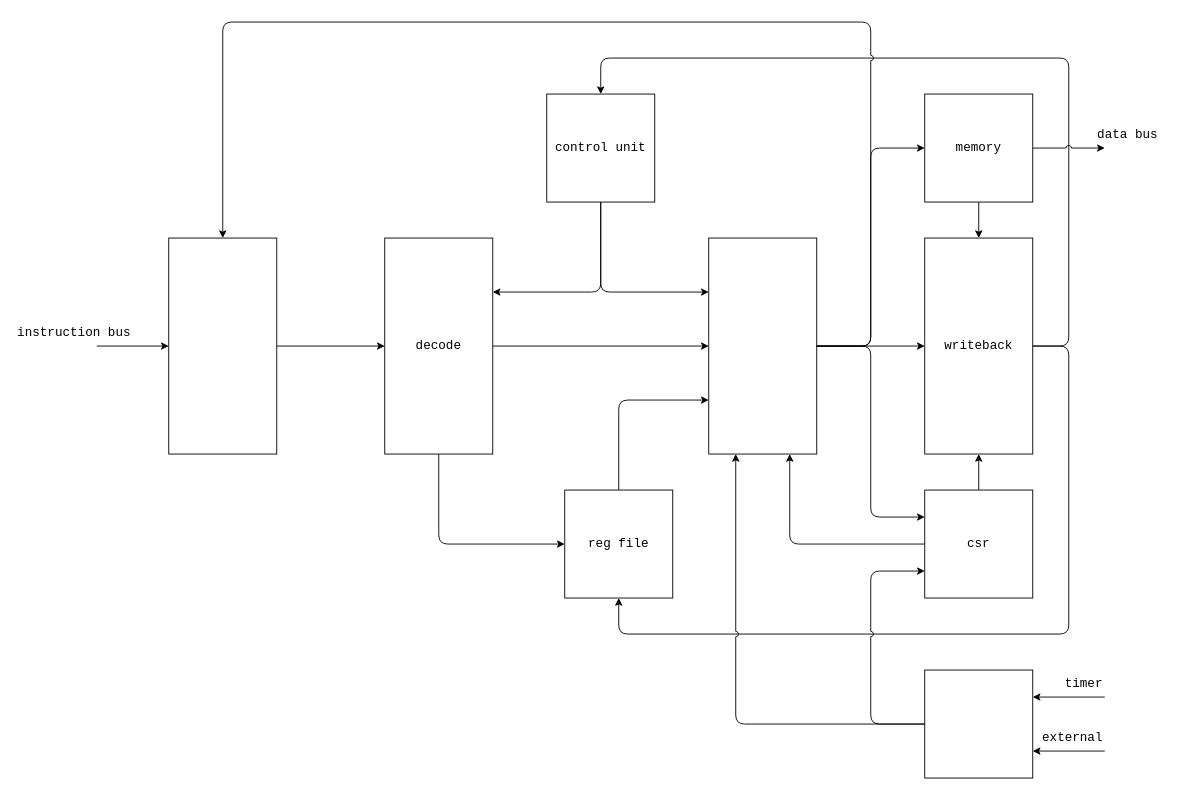
The diagram is 1183 pixels wide and 794 high, and some of its shapes have lost their labels. Each missing label, with the centre of its shape:
execute: point (762, 345)
fetch: point (222, 345)
interrupt handler: point (978, 723)
